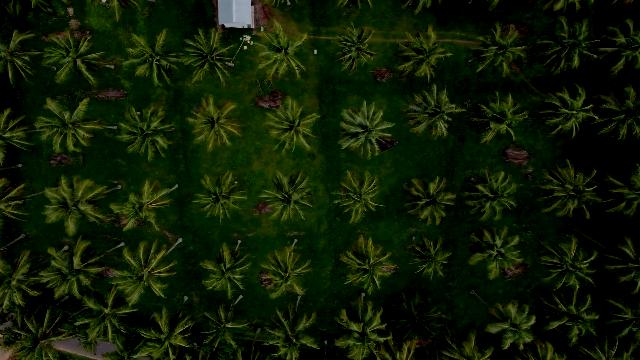trees: (106, 240, 180, 306), (38, 239, 115, 302), (33, 98, 112, 157), (42, 176, 116, 237), (6, 299, 79, 360), (41, 29, 116, 87), (533, 162, 606, 220), (75, 290, 141, 353), (534, 17, 603, 75), (334, 294, 393, 360), (535, 84, 604, 140), (468, 21, 536, 77), (338, 100, 400, 161), (109, 178, 179, 232), (115, 103, 179, 162), (180, 26, 243, 85), (122, 29, 184, 88), (540, 288, 603, 346), (401, 84, 466, 140), (339, 236, 400, 295), (137, 303, 200, 360), (537, 237, 601, 293), (468, 91, 533, 146), (393, 25, 454, 83), (385, 291, 450, 345), (262, 300, 320, 360), (263, 97, 321, 156), (467, 227, 528, 282), (259, 240, 315, 299), (256, 21, 311, 81), (187, 96, 245, 152), (198, 299, 256, 354), (201, 241, 255, 300), (464, 169, 523, 223), (333, 171, 389, 225), (259, 170, 316, 223), (194, 172, 251, 224), (401, 175, 458, 227), (483, 298, 540, 350), (331, 23, 383, 78), (1, 27, 47, 89), (1, 248, 45, 310), (406, 233, 454, 281), (597, 293, 640, 346), (1, 106, 37, 168), (600, 235, 640, 289), (1, 179, 35, 224), (442, 332, 495, 360)
